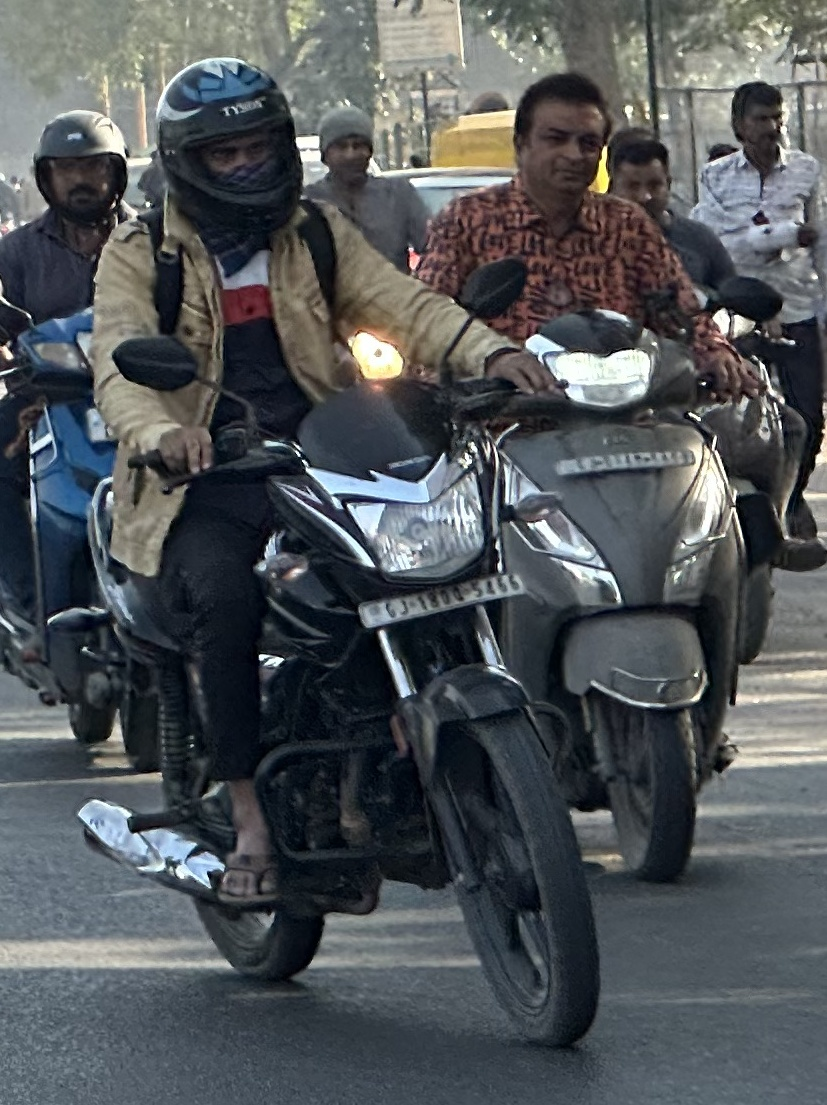BikeWithRider: (37, 53, 627, 1066), (397, 66, 792, 904), (0, 99, 191, 777)
Helmet: (145, 50, 312, 235), (500, 65, 626, 205), (19, 99, 146, 227)
NoHelmet: (595, 131, 685, 222), (304, 99, 386, 193)
